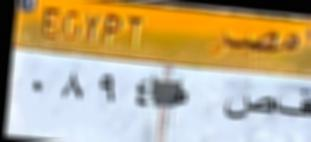0: (25, 75, 51, 101)
4: (132, 79, 150, 111)
8: (57, 70, 87, 109)
9: (97, 72, 122, 104)
faa: (280, 85, 311, 121)
saad: (219, 88, 277, 126)
